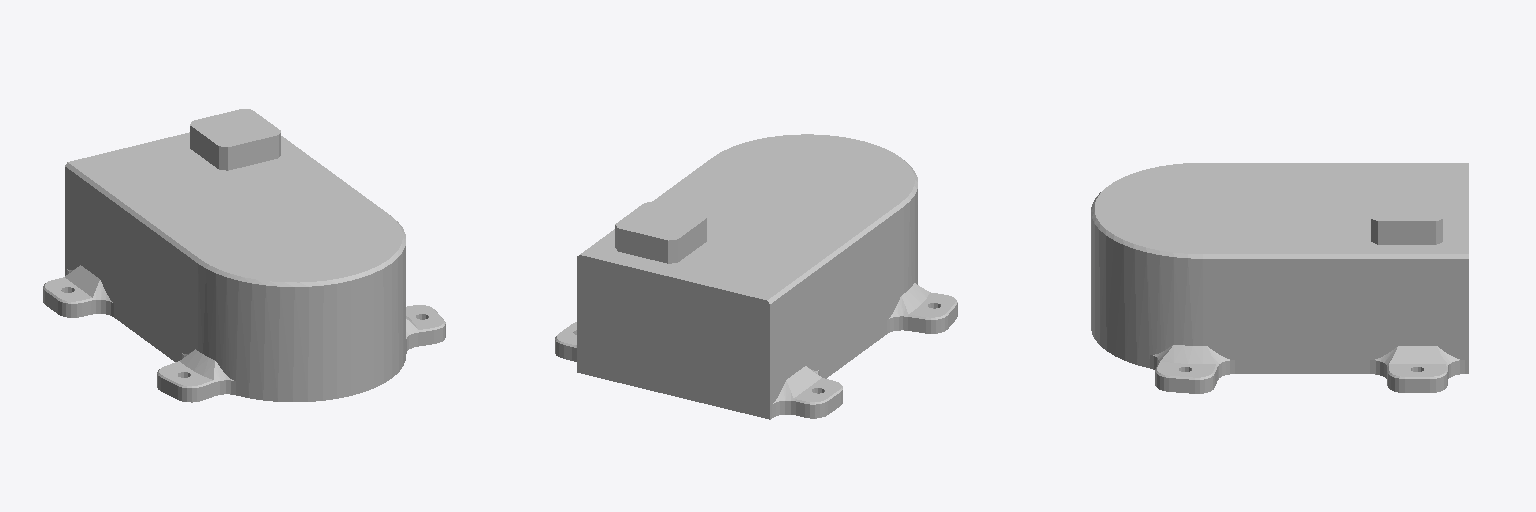
File: base-axis.obj
The picture shows the model from 3 angles: view 1: azimuth 30°, elevation 25°; view 2: azimuth 150°, elevation 25°; view 3: azimuth 270°, elevation 25°; orthographic projection.
Parts seen in each view (by area): view 1: Solid1; view 2: Solid1; view 3: Solid1.
Part boxes in pixels (x1,y1,x2,y2): Solid1: (43,109,445,402); Solid1: (555,134,957,419); Solid1: (1091,163,1468,393).
Size of the model in its own units: 185 by 91 by 220.